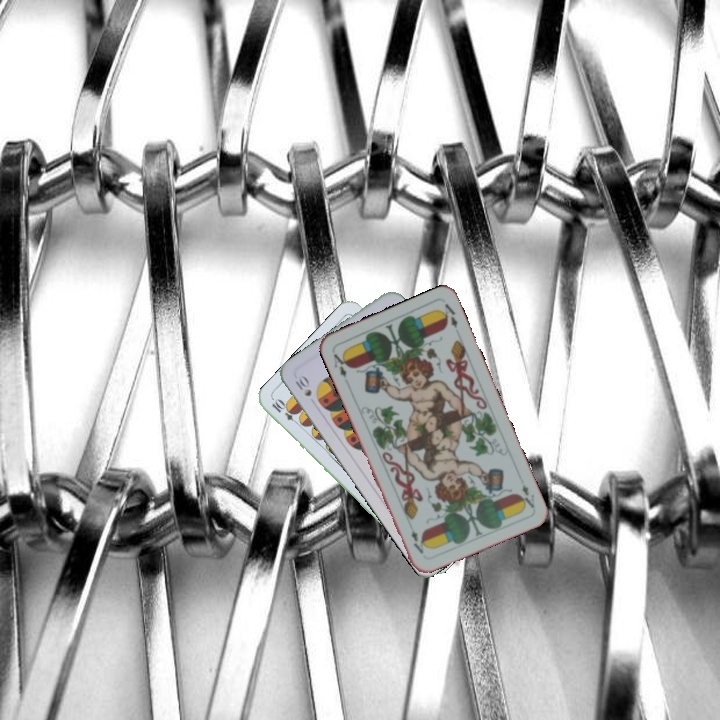E10: (268, 395, 303, 428)
EA: (329, 348, 351, 380), (515, 480, 537, 510)
S10: (290, 371, 314, 399)
